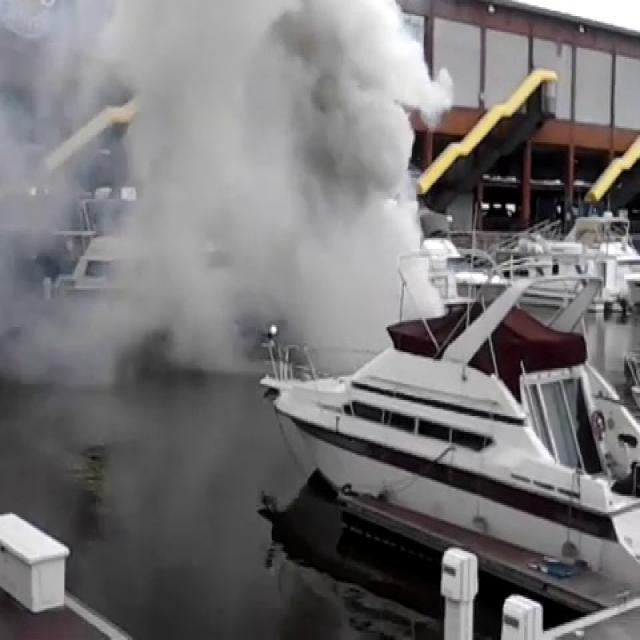Smoke: (1, 0, 454, 411)
